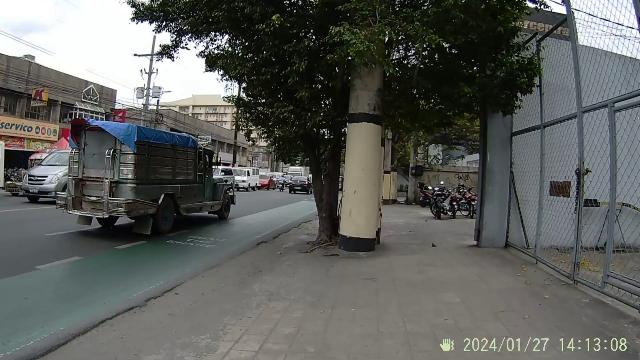tree: (302, 62, 340, 246)
utility_post: (344, 43, 382, 248), (130, 33, 170, 121)
